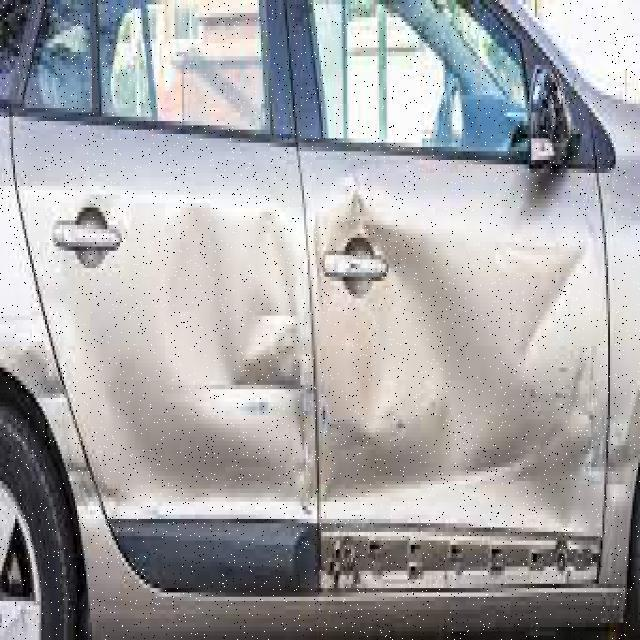fender: (317, 143, 606, 537), (43, 138, 317, 532)
